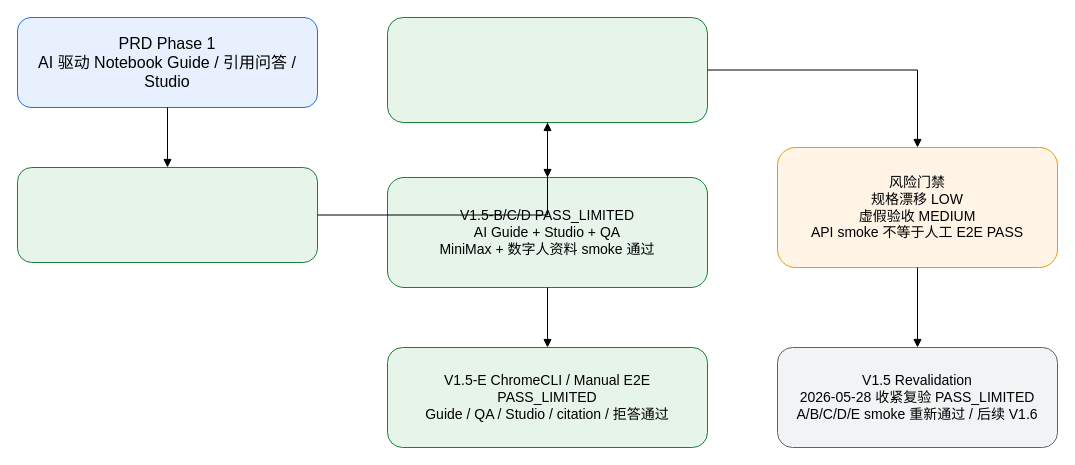
This 1075x465 diagram has some shape labels left out. Each missing label, with the centre of its shape:
V1.4 PASS_LIMITED 确定性 Guide / Studio / citation 主路径可用: point (167, 214)
V1.5-A AI Provider Contract PASS MiniMax 真实调用 / schema / 脱敏通过: point (547, 69)
